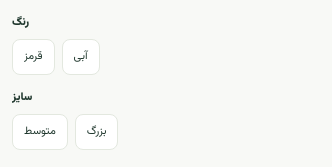
PDP purchase and variant UX › marks combinations unavailable without relying only on color
Click the button "قرمز" at (33, 57), box [12,39,54,75]
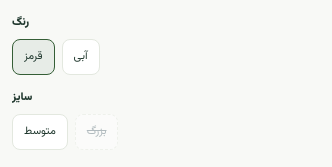
Click the button "متوسط" at (40, 132), box [12,114,68,150]
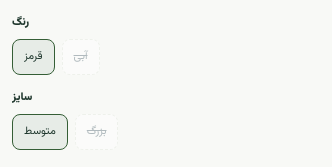
Now the button "آبی" is disabled, box [62,39,100,75]
